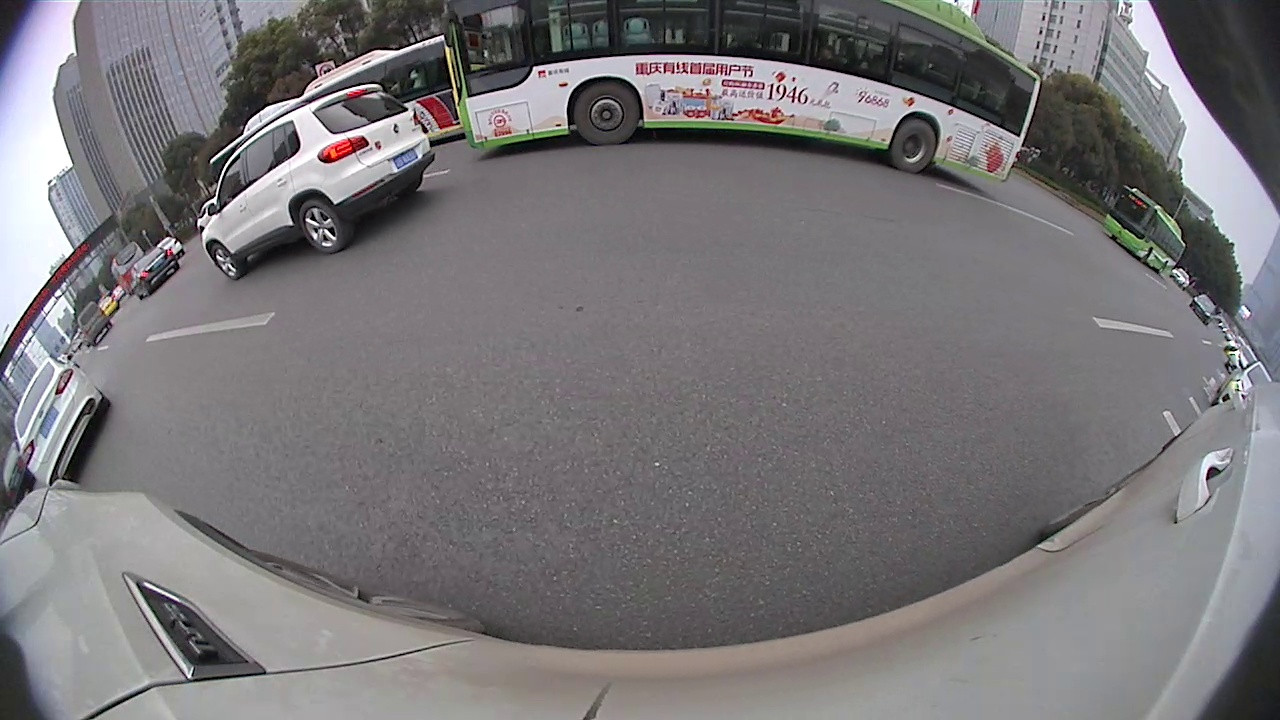bus: (439, 1, 1046, 193), (301, 30, 466, 147), (1100, 181, 1189, 281)
car: (201, 79, 437, 283), (11, 353, 109, 489), (129, 238, 181, 303)
front: (571, 81, 643, 147), (208, 242, 243, 282)
rear: (296, 201, 343, 256), (893, 117, 936, 174)
